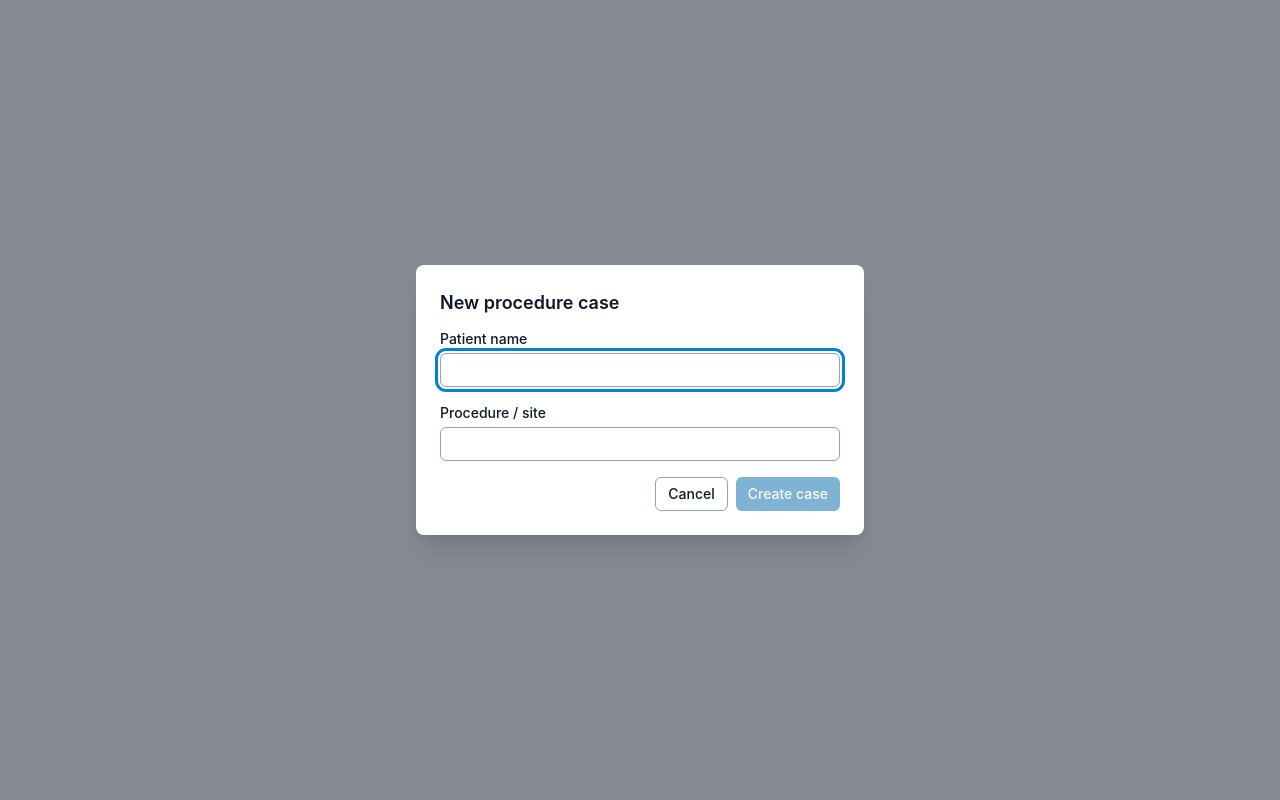
Test: NewCaseDialog › offers at most eight suggestions
Type "lee" into the field labelled "Patient name" at (640, 370), box [440,353,840,387]
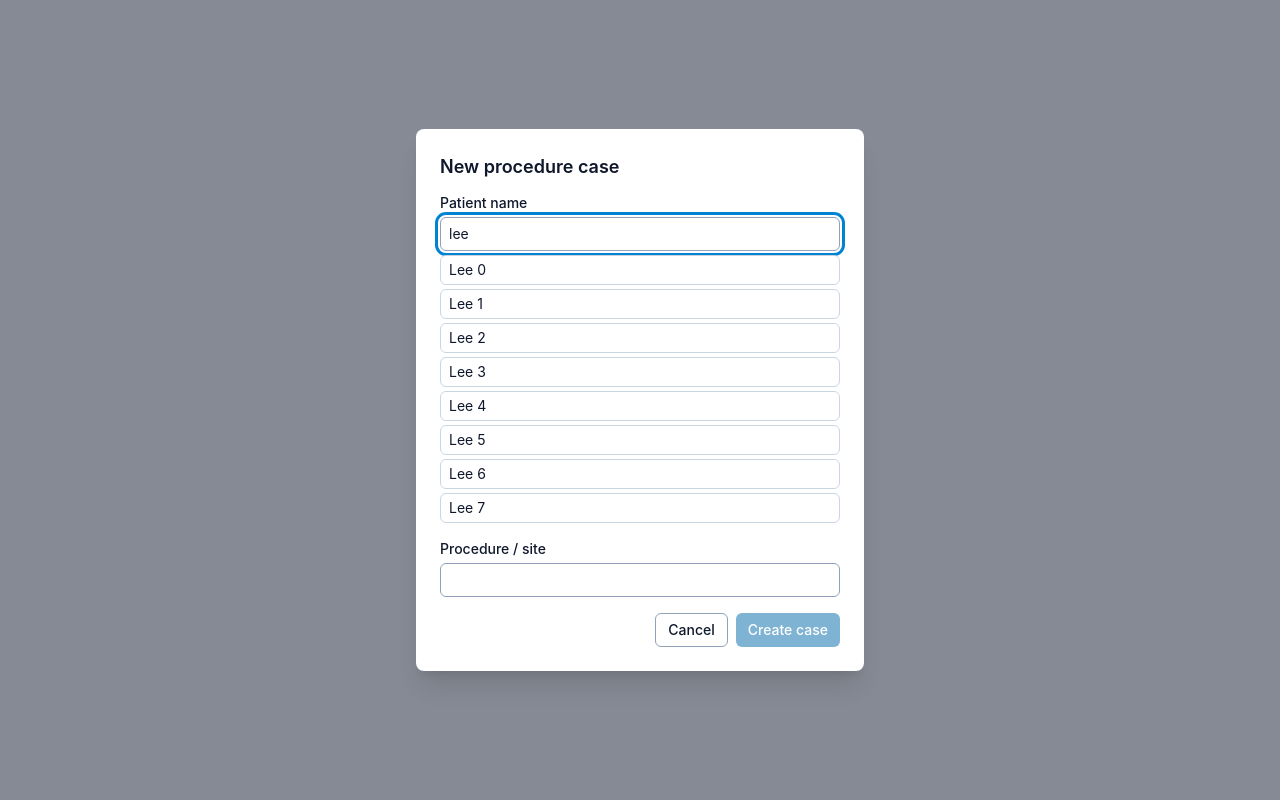
Now the number of buttons "Lee 0" is 8
